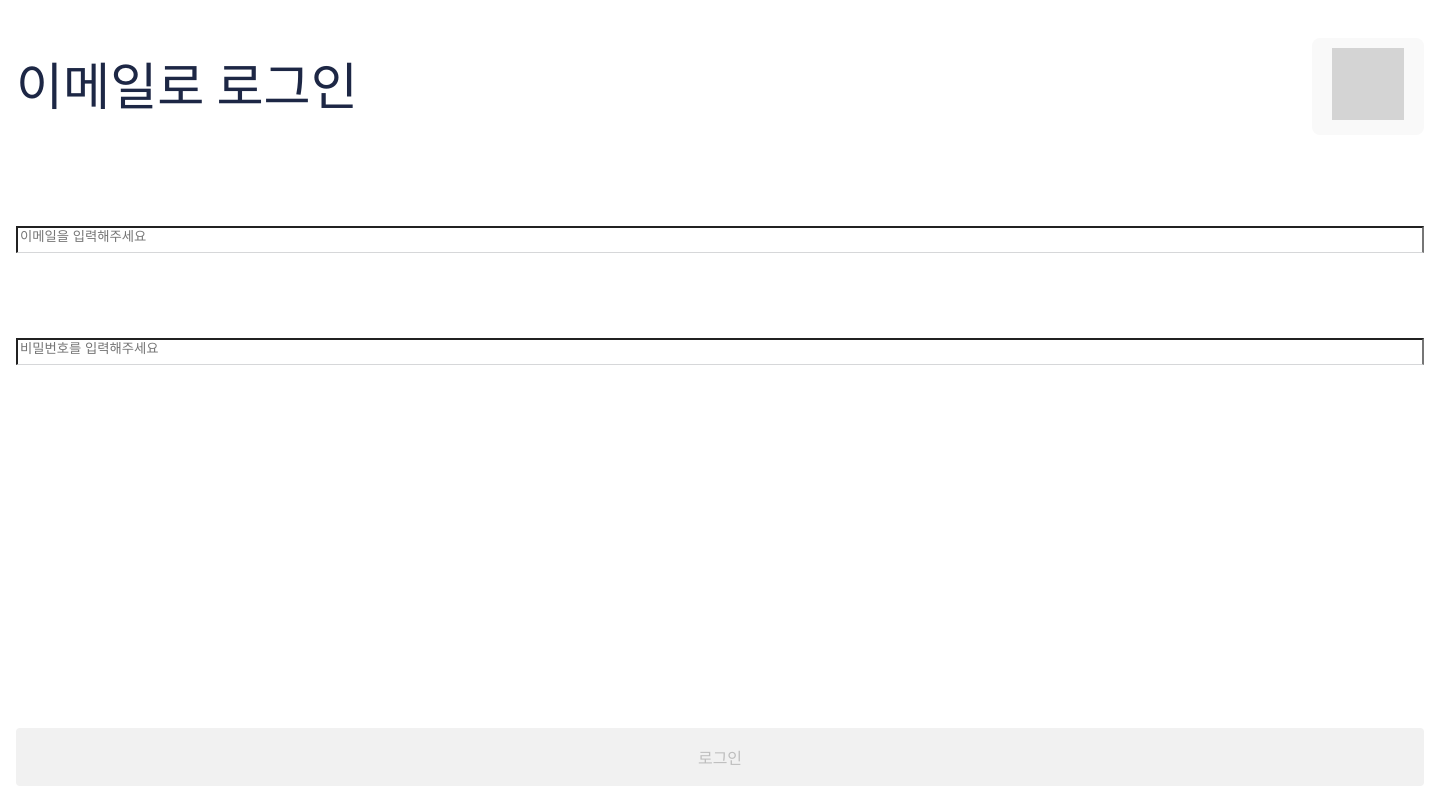
Test: 로그인 테스트 › 로그인에 실패하면 에러 메시지가 나타난다.
Type "wrong-email@naver.com" into the field labelled "이메일" at [720, 239], box [16,226,1424,253]
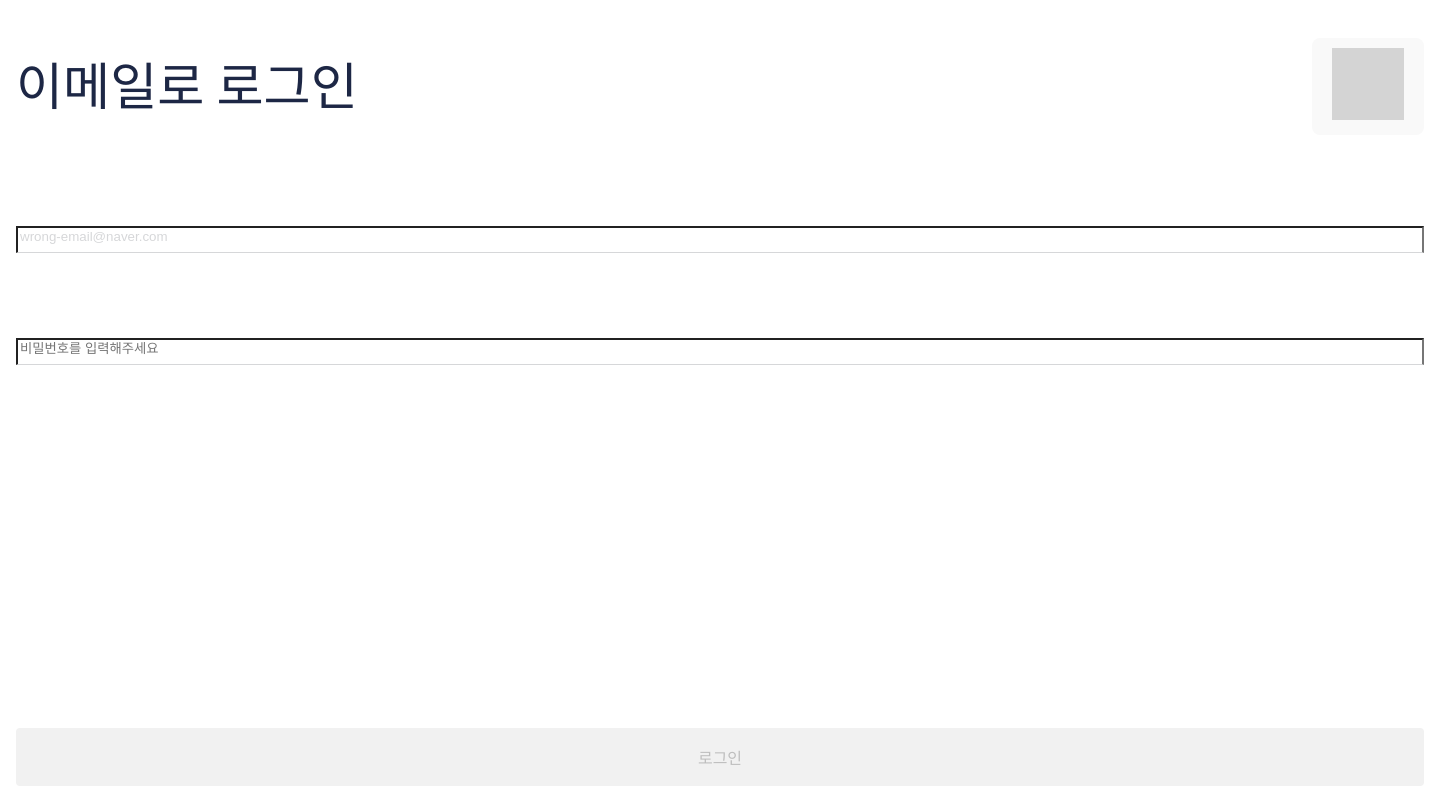
Type "wrong-password" into the password field labelled "비밀번호" at [720, 351], box [16,338,1424,365]
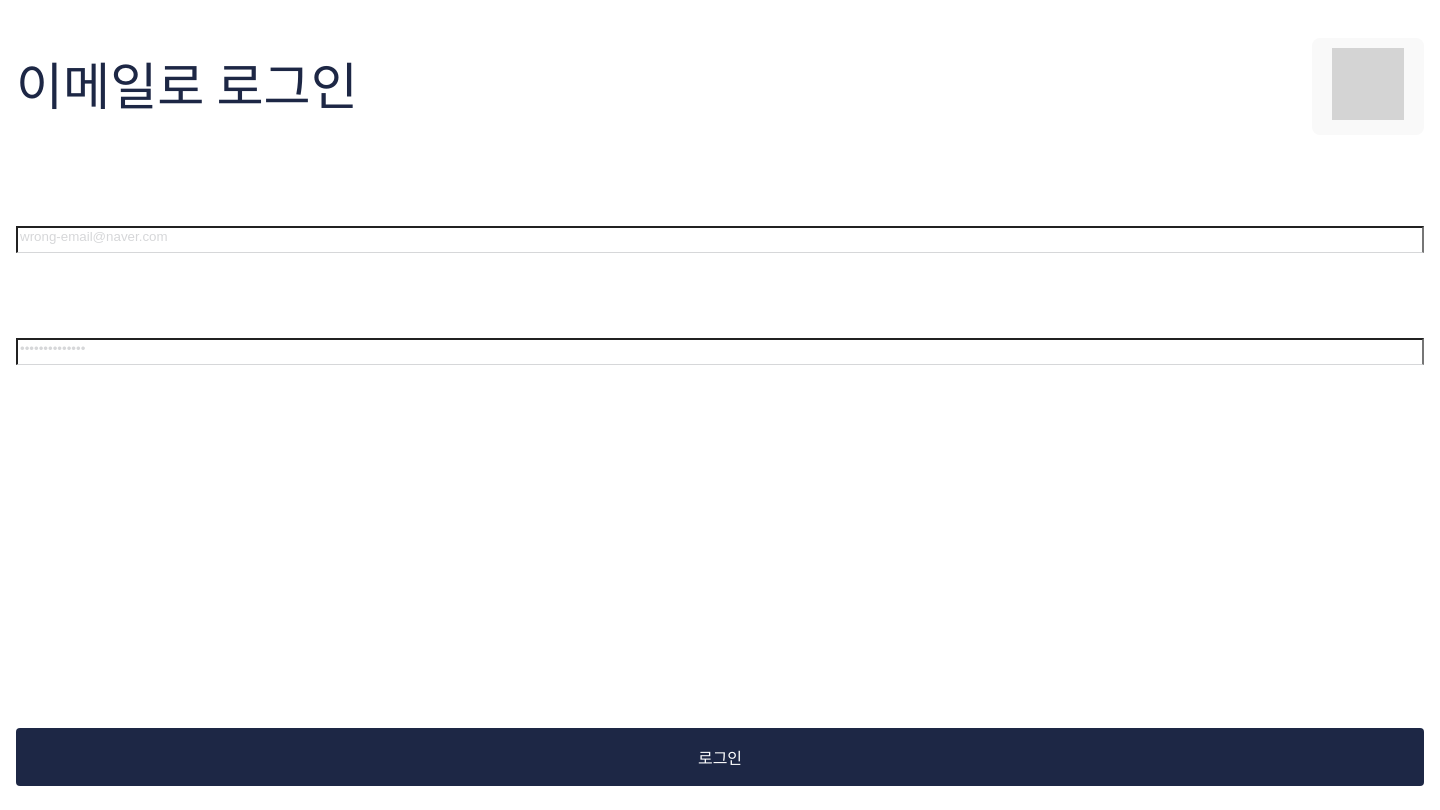
Click the button "로그인" at [720, 757], box [16,728,1424,786]
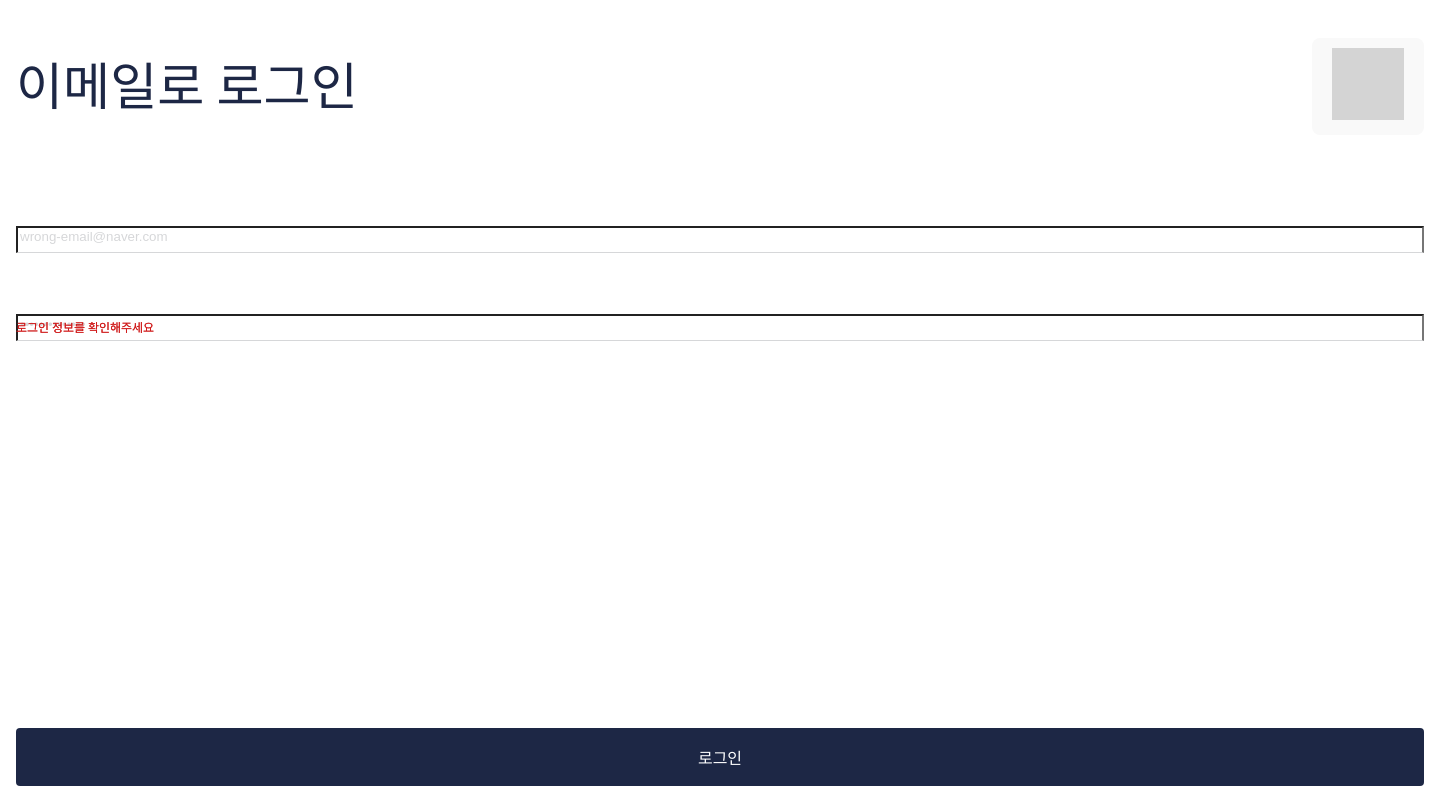
Expected: the heading "로그인 정보를 확인해주세요" is shown, [16,319,154,337]
